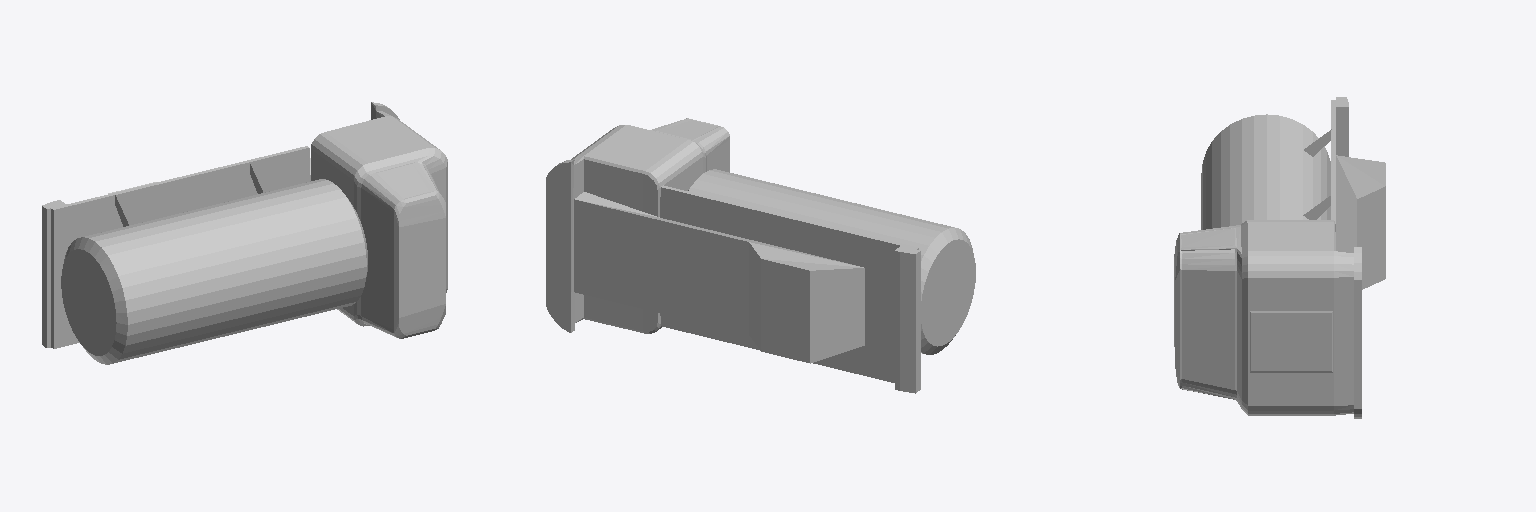
The model's file is igs_truck_small_tanker.obj.
The picture shows the model from 3 angles: view 1: azimuth 30°, elevation 25°; view 2: azimuth 150°, elevation 25°; view 3: azimuth 270°, elevation 25°; orthographic projection.
Size of the model in its own units: 0.4283 by 0.1933 by 0.2163.